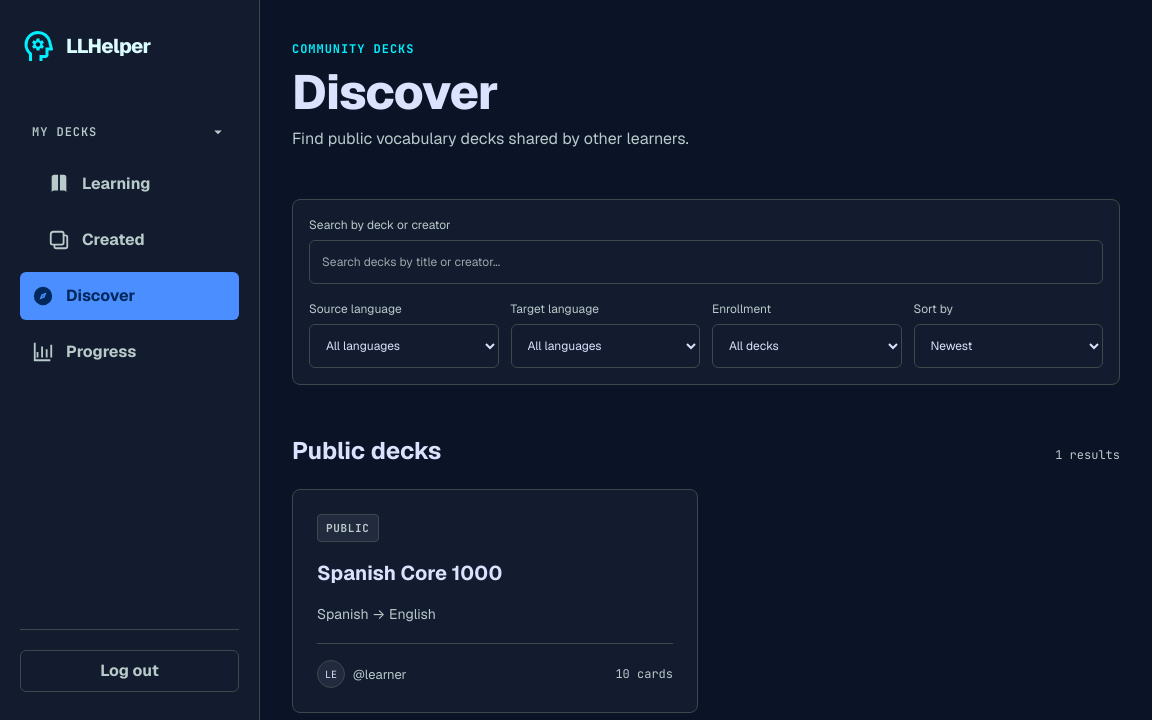
router session boundaries › opens Public Deck Details from a Discover card
Click the link with aria-label "Open Spanish Core 1000" at (348, 528), box left=292, top=489, right=698, bottom=713
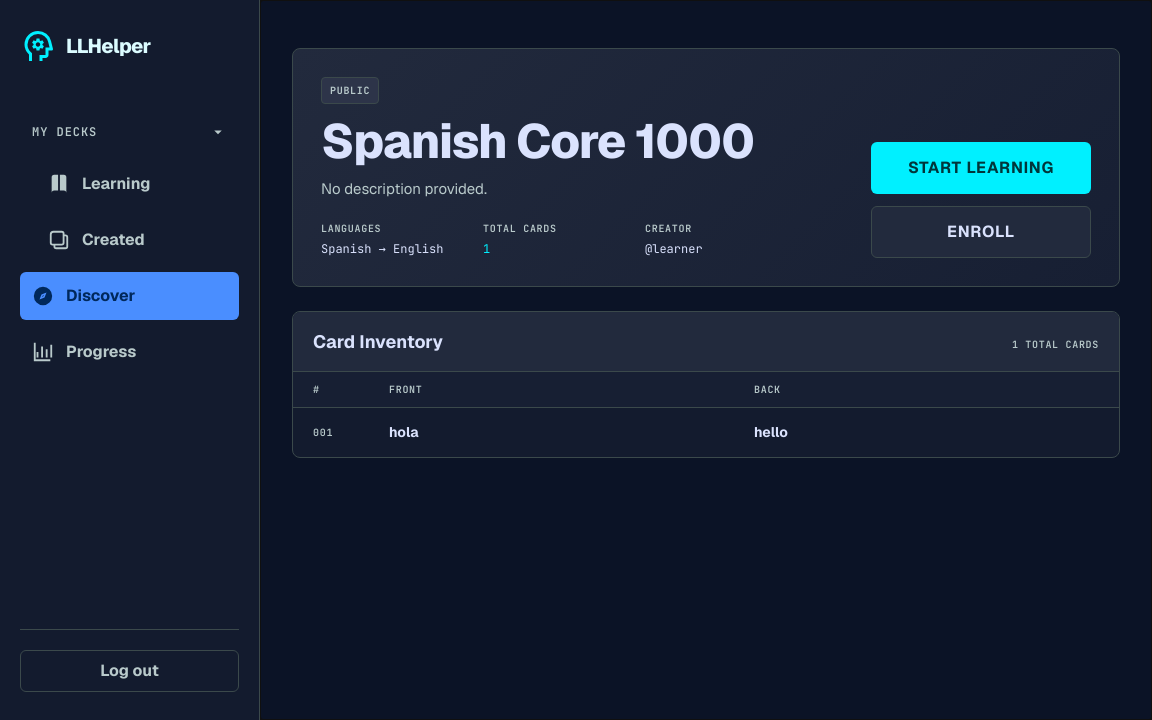
expect the heading "Spanish Core 1000" is shown: met, box left=321, top=110, right=754, bottom=172
expect the button "Start Learning" is shown: met, box left=871, top=142, right=1091, bottom=194
